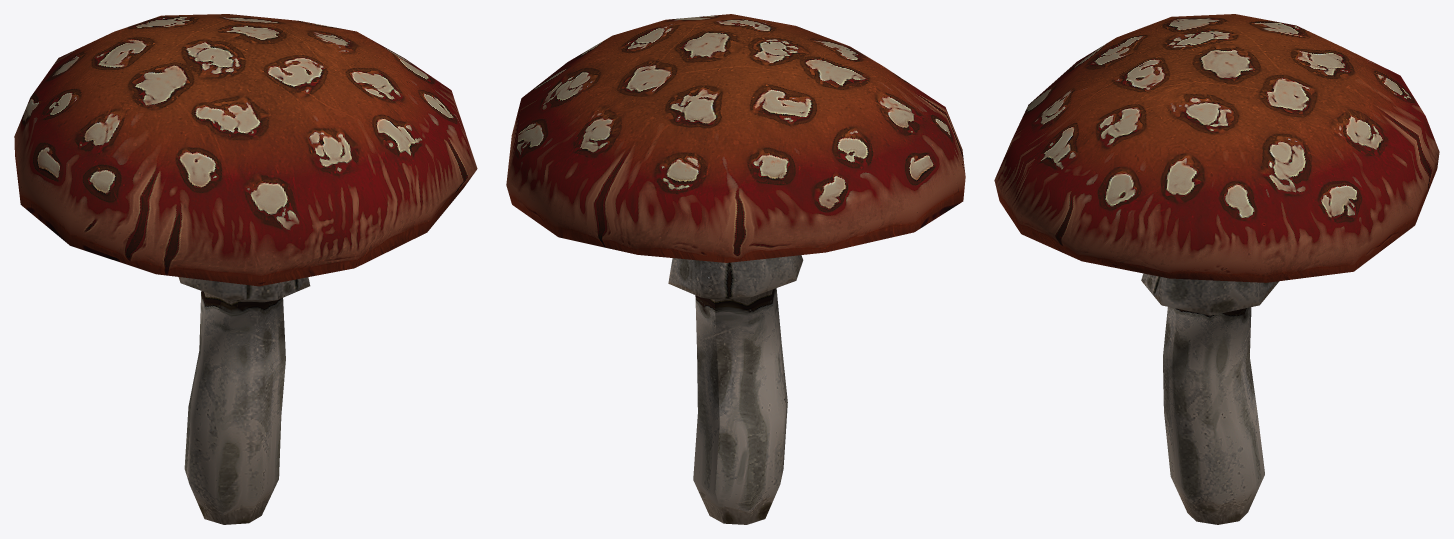
Rendered from mushroom_1_2.fbx.
3 renders of one model, left to right at view 1: azimuth 30°, elevation 25°; view 2: azimuth 150°, elevation 25°; view 3: azimuth 270°, elevation 25°, orthographic.
Visible parts, largest first — view 1: Mushroom_1_2; view 2: Mushroom_1_2; view 3: Mushroom_1_2.
Part boxes in pixels (x1,y1,x2,y2): Mushroom_1_2: (14, 14, 477, 524); Mushroom_1_2: (506, 14, 965, 524); Mushroom_1_2: (994, 14, 1439, 524).
Bounding box in the file's own units: 0.6977 × 0.7913 × 0.6821.
